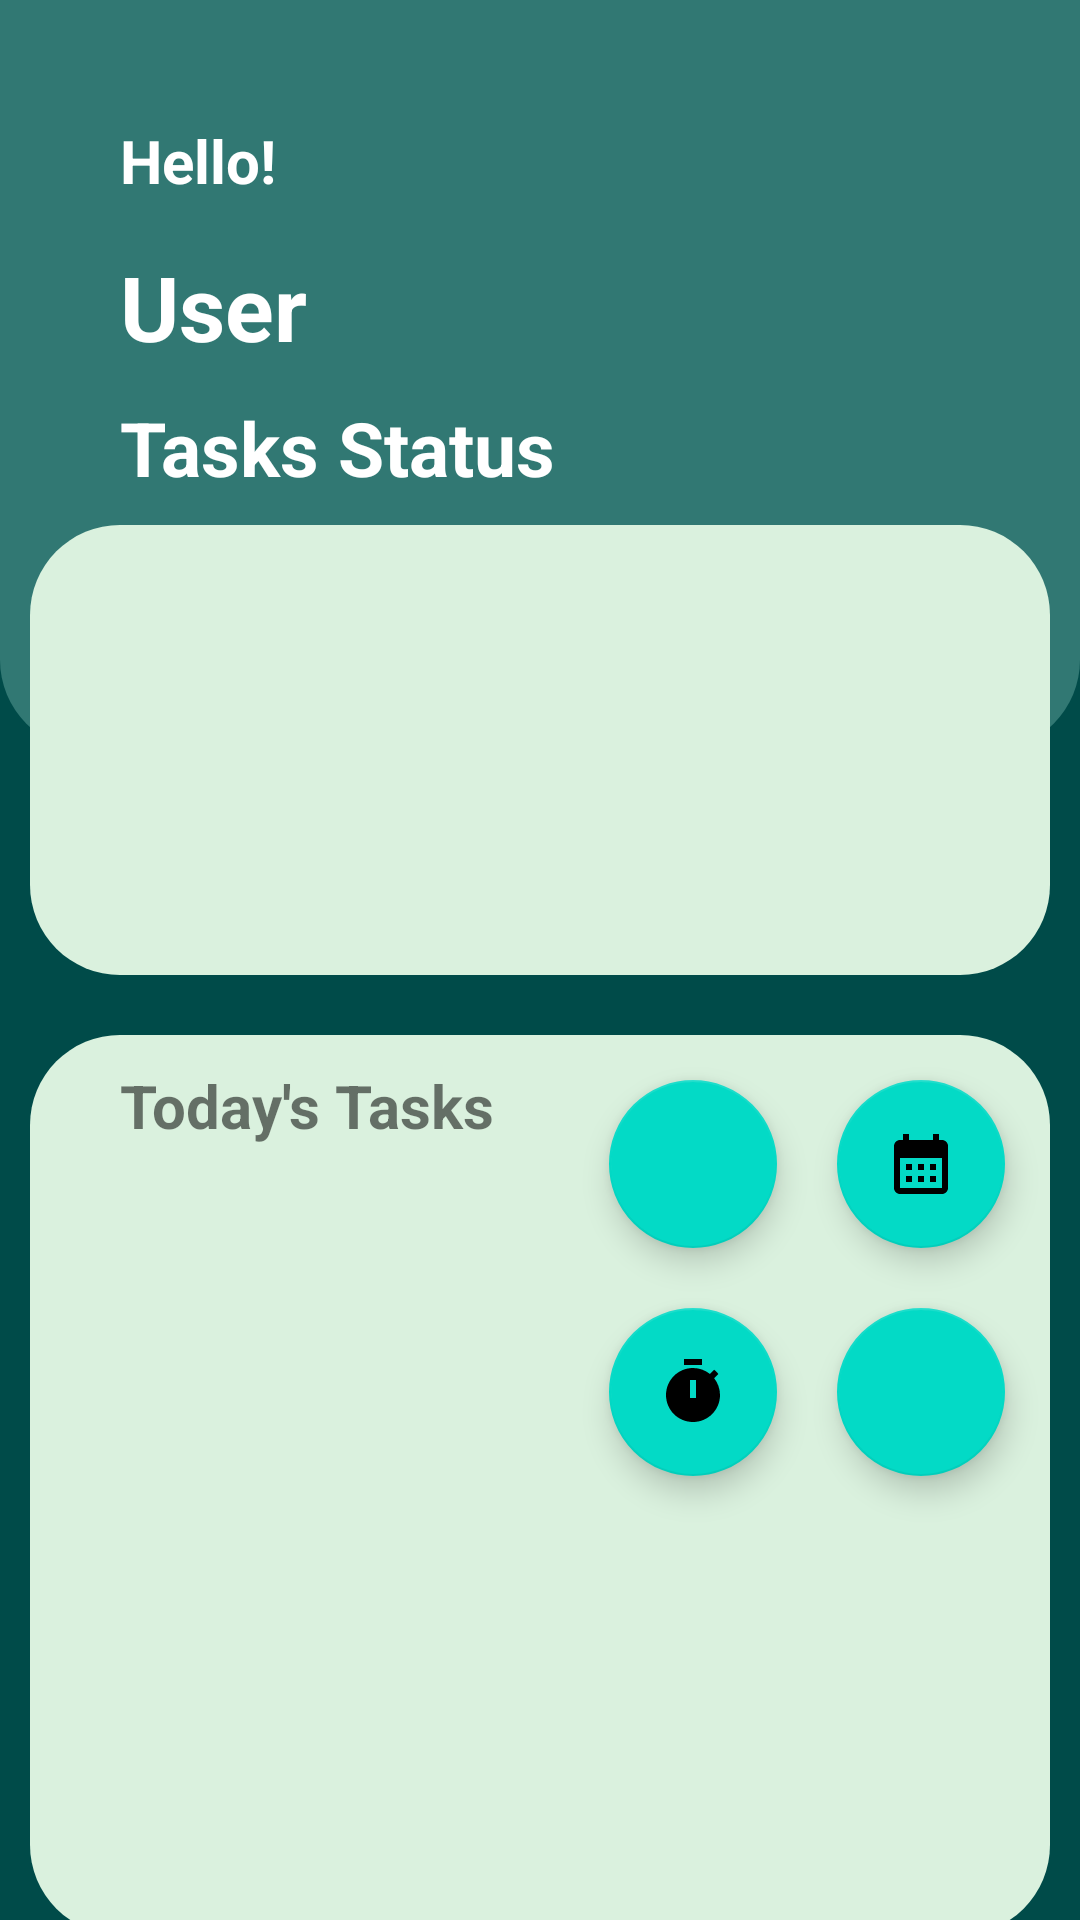

Named icons in this screenshot (1080px×1920px) and their centers, [x,y]:
calendar month: [921,1164]
timer: [693,1392]
